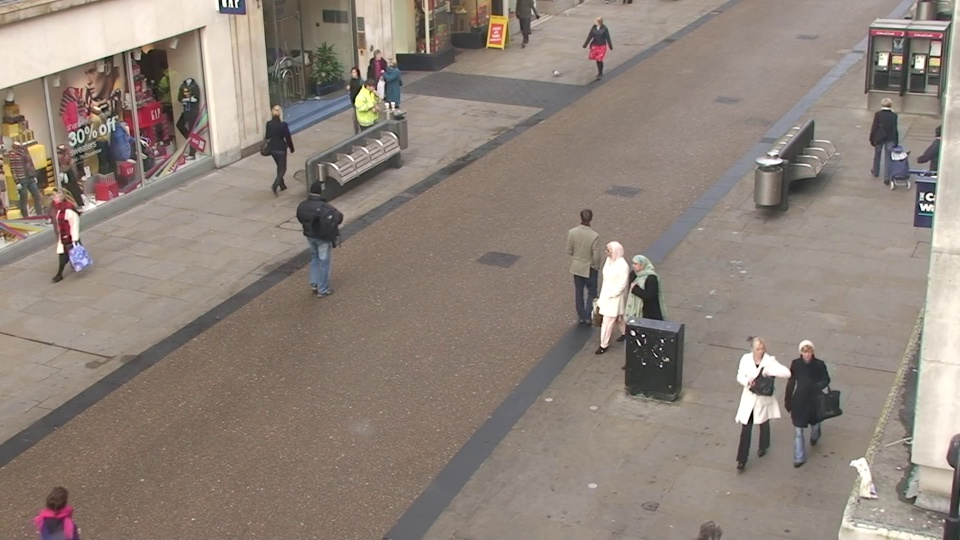pedestrian: (775, 330, 832, 483), (727, 328, 782, 480), (39, 182, 92, 293), (618, 248, 661, 380), (25, 469, 104, 540), (593, 235, 634, 364), (569, 203, 607, 324), (298, 175, 339, 286), (863, 95, 904, 188), (263, 101, 297, 191), (357, 75, 388, 158), (344, 63, 374, 143), (380, 54, 408, 132), (365, 47, 393, 123), (587, 14, 610, 81)
